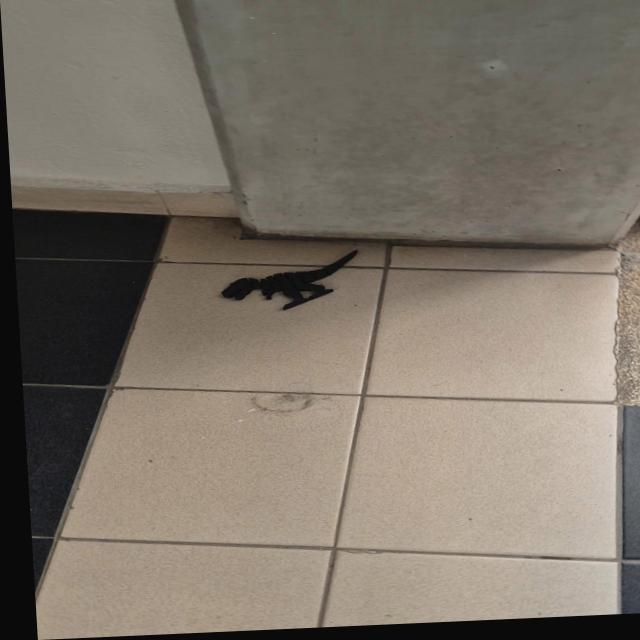dino: (218, 249, 363, 314)
